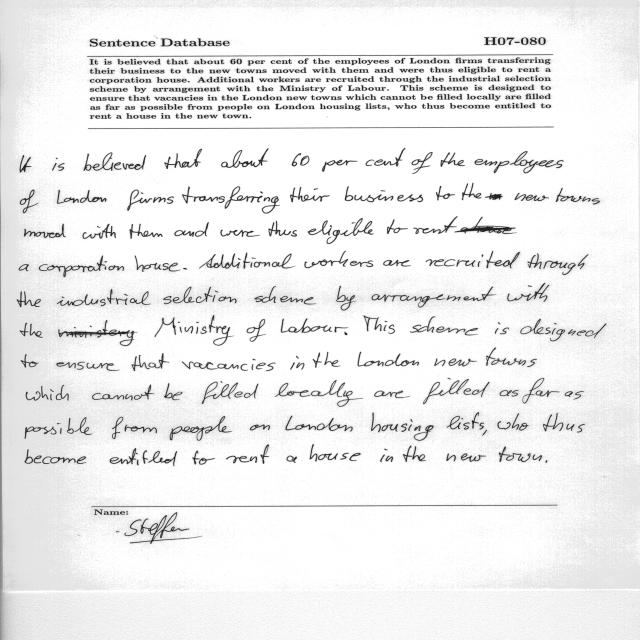word: (182, 186, 280, 214), (372, 287, 496, 308), (155, 315, 234, 346), (275, 380, 363, 407), (58, 320, 138, 346), (521, 319, 607, 342), (475, 152, 564, 174), (39, 256, 124, 277), (423, 378, 490, 404), (371, 413, 433, 441), (308, 218, 374, 244), (199, 252, 295, 269), (426, 251, 520, 268), (57, 289, 151, 306), (170, 416, 232, 441), (528, 253, 589, 275), (410, 317, 478, 336), (202, 381, 258, 404), (345, 186, 423, 202), (164, 287, 237, 304), (110, 448, 177, 466), (305, 251, 374, 268), (281, 319, 348, 336), (84, 153, 146, 171), (182, 359, 275, 371), (255, 287, 316, 305), (286, 416, 353, 432), (455, 217, 517, 234), (486, 347, 537, 367), (92, 385, 154, 401), (112, 417, 157, 439), (127, 190, 174, 211), (221, 148, 269, 168), (447, 412, 487, 436), (523, 378, 560, 403), (27, 449, 87, 464), (310, 445, 361, 462), (226, 444, 269, 464), (358, 352, 419, 366), (47, 417, 92, 435), (508, 283, 550, 302), (543, 413, 585, 432), (414, 216, 458, 234), (135, 255, 180, 272), (164, 149, 202, 169), (366, 148, 406, 167), (556, 188, 600, 205), (26, 385, 69, 401), (57, 190, 106, 204), (132, 353, 169, 371), (499, 447, 542, 462), (291, 187, 330, 202), (56, 362, 120, 371), (174, 222, 209, 237), (82, 224, 116, 239), (336, 286, 356, 311), (130, 224, 163, 239), (412, 152, 433, 174), (247, 319, 266, 342), (268, 221, 297, 236), (322, 160, 358, 172), (313, 352, 340, 368), (403, 445, 426, 462), (441, 152, 465, 167), (446, 453, 486, 462), (434, 359, 477, 367), (462, 183, 481, 200), (387, 219, 408, 234), (193, 451, 215, 465), (164, 383, 182, 400), (512, 414, 529, 431), (514, 193, 549, 201), (221, 230, 261, 237), (364, 316, 382, 331), (436, 186, 455, 200), (47, 224, 66, 238), (27, 190, 39, 211), (374, 391, 410, 398), (292, 153, 309, 166), (383, 260, 411, 267), (291, 356, 305, 370), (30, 324, 43, 338), (565, 391, 584, 400), (52, 158, 65, 171), (380, 449, 393, 462), (495, 323, 509, 335), (384, 321, 395, 334), (500, 390, 519, 397), (26, 299, 41, 307), (250, 425, 270, 431), (485, 193, 502, 200), (498, 421, 511, 430), (26, 362, 39, 368), (286, 456, 297, 463), (27, 157, 32, 167), (26, 264, 29, 271), (183, 268, 187, 270), (546, 460, 548, 463)
